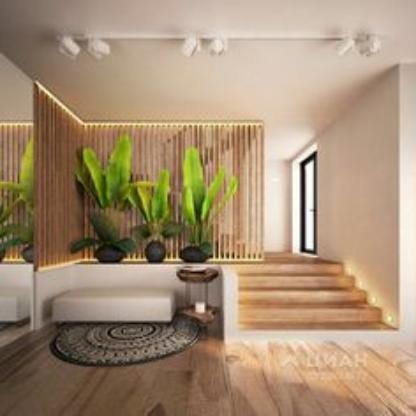stair: (221, 243, 394, 346)
